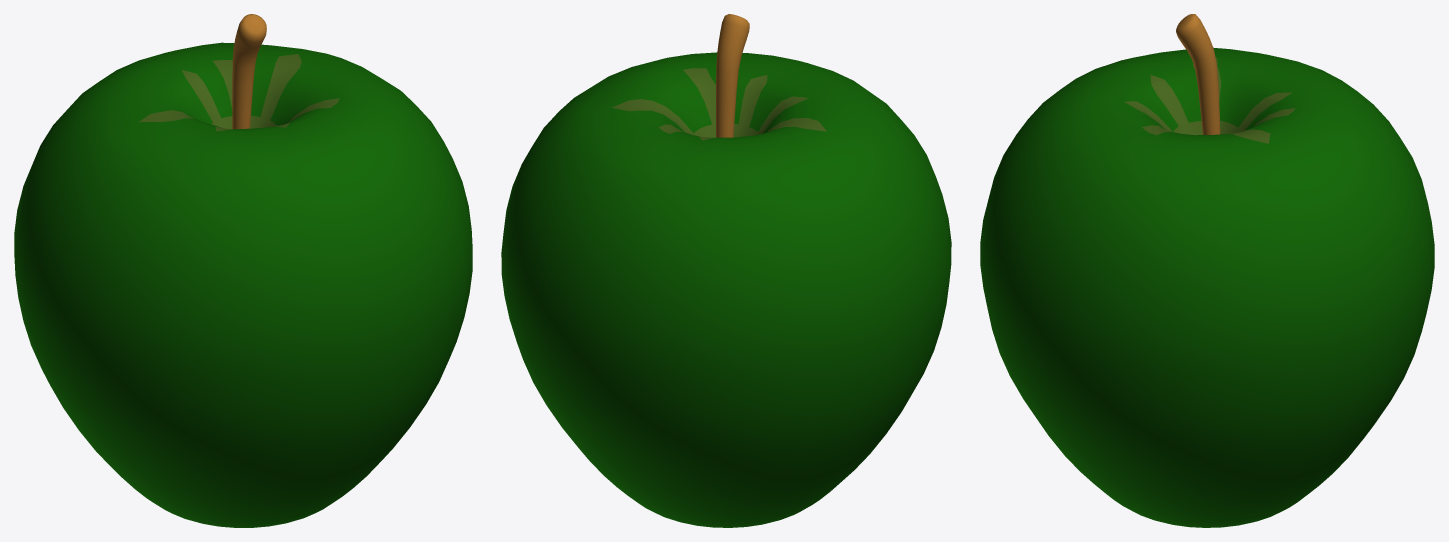
File: green_apple.fbx
The picture shows the model from 3 angles, left to right: view 1: azimuth 30°, elevation 25°; view 2: azimuth 150°, elevation 25°; view 3: azimuth 270°, elevation 25°; orthographic projection. The views are drawn at different scales.
Visible parts, largest first — view 1: Circle; view 2: Circle; view 3: Circle.
Boxes of the visible parts, x1,y1,x2,y2 form: Circle: [14, 14, 472, 527]; Circle: [501, 14, 951, 527]; Circle: [980, 14, 1434, 527].
Bounding box in the file's own units: 83.95 × 100 × 83.95.
